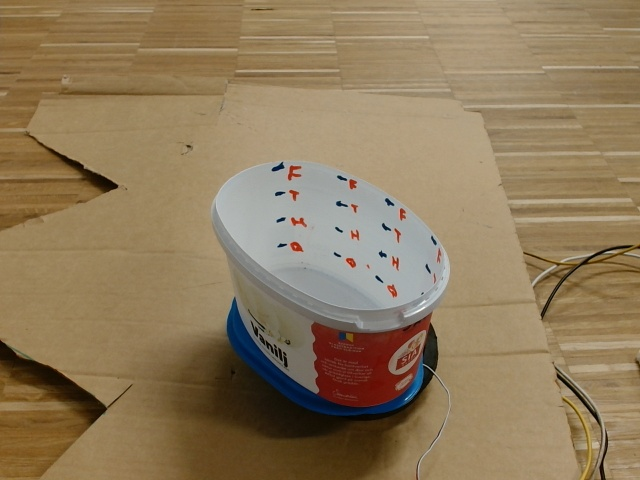Big_zero: (213, 157, 452, 328)
